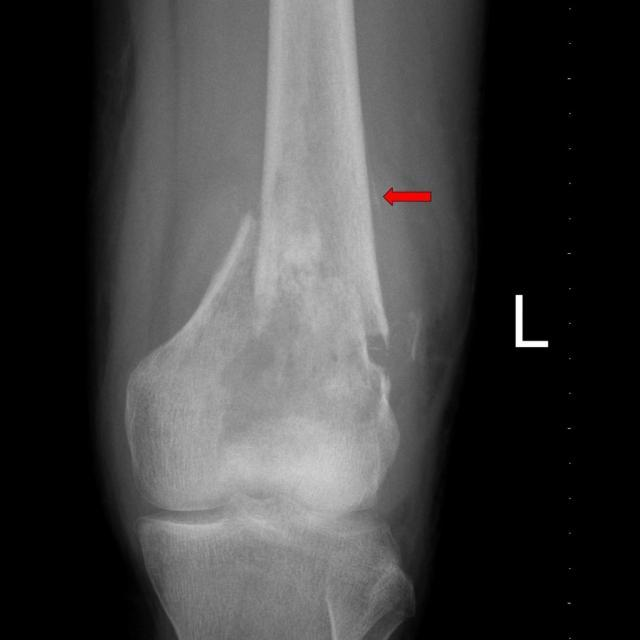pathological: (208, 182, 418, 428)
